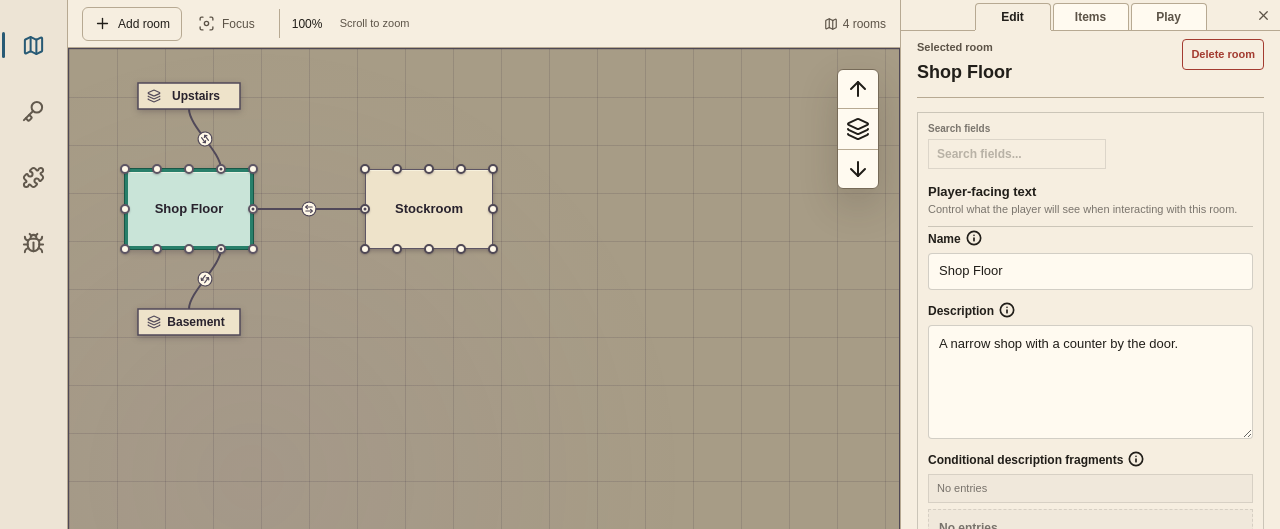
Test: EditorPage loading › opens the empty command library for the initial world
Click the button named "Logic" at point(34, 177), box [10, 154, 58, 200]
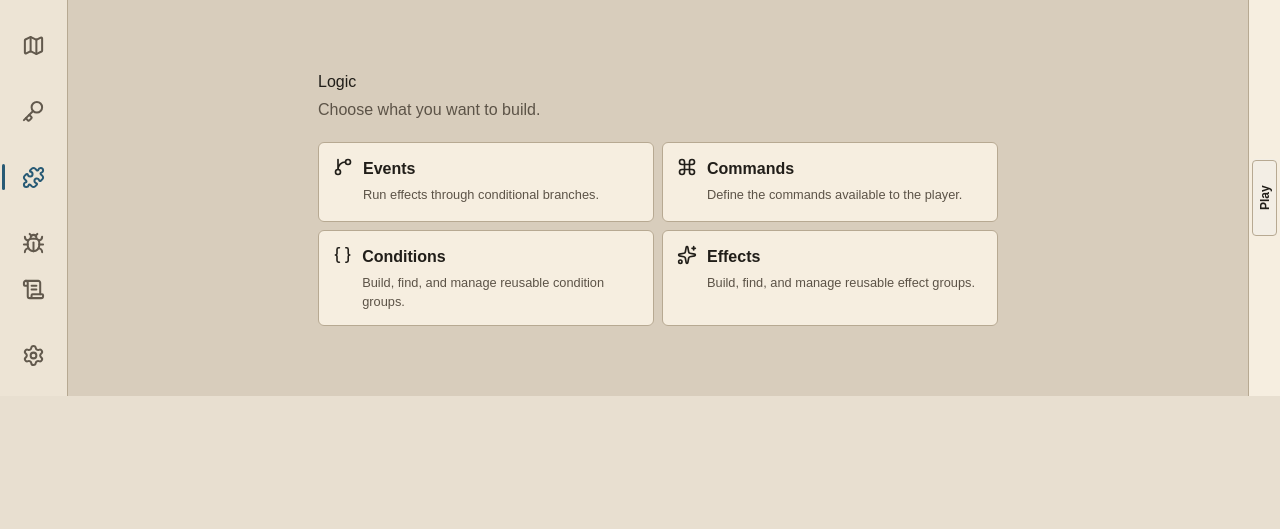
Click the button "Commands Define the commands available to the player." at point(751, 168), box [662, 142, 998, 222]
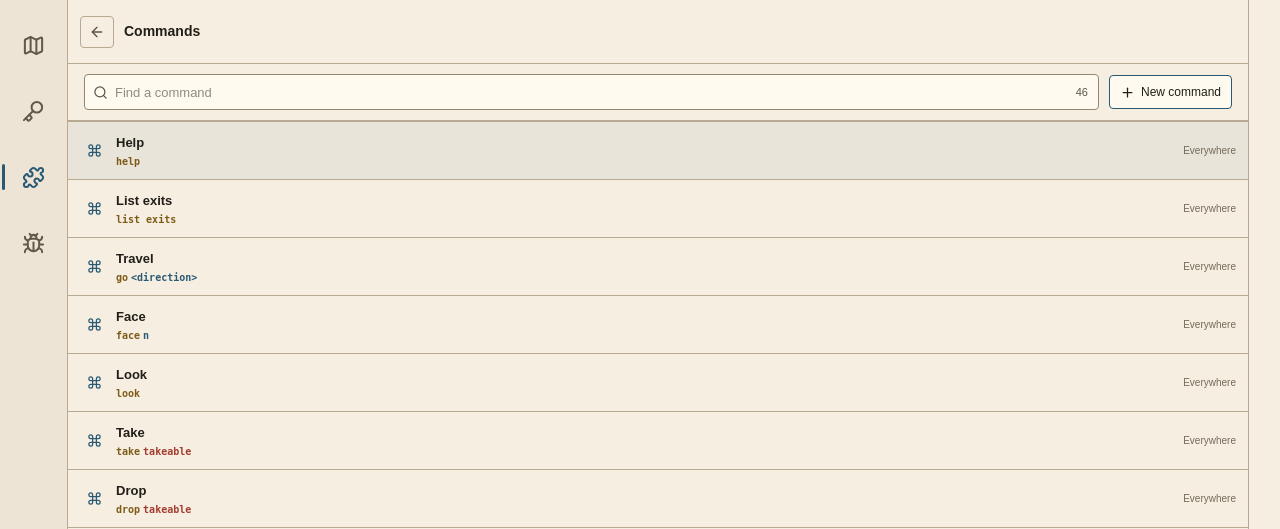
Now the search field named "Find a command" is shown, box [115, 75, 1066, 109]
Now the button "Travel go <direction> Everywhere" is shown
Now the button "New command" is shown, box [1109, 75, 1232, 109]
Click the button "Travel go <direction> Everywhere" at point(135, 258), box [68, 238, 1248, 296]
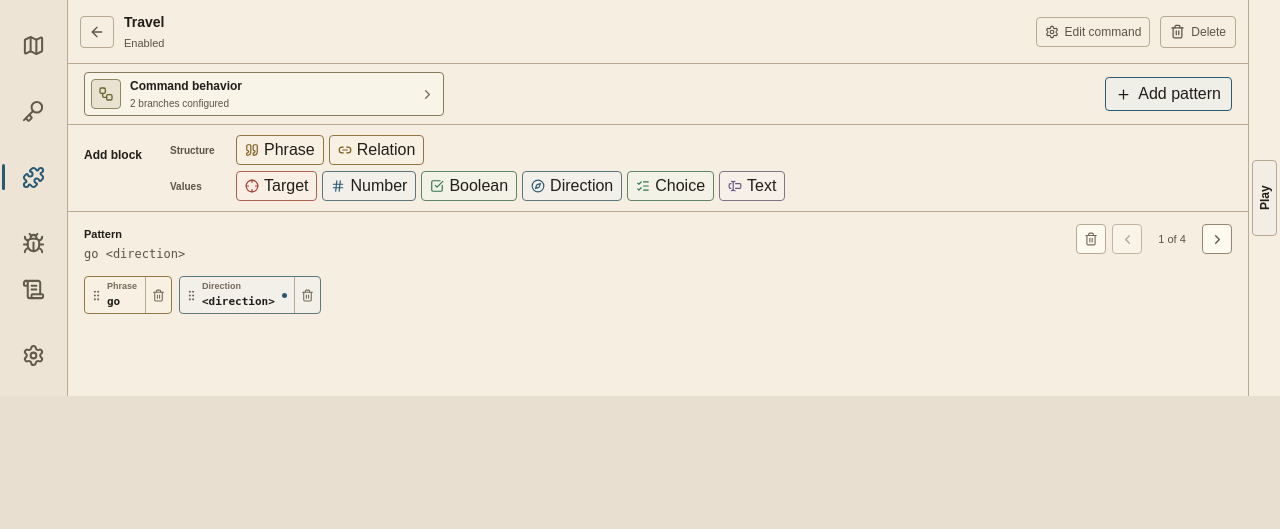
Now the button "Edit command" is shown, box [1036, 16, 1150, 46]
Click the button named "Logic" at point(34, 177), box [10, 154, 58, 200]
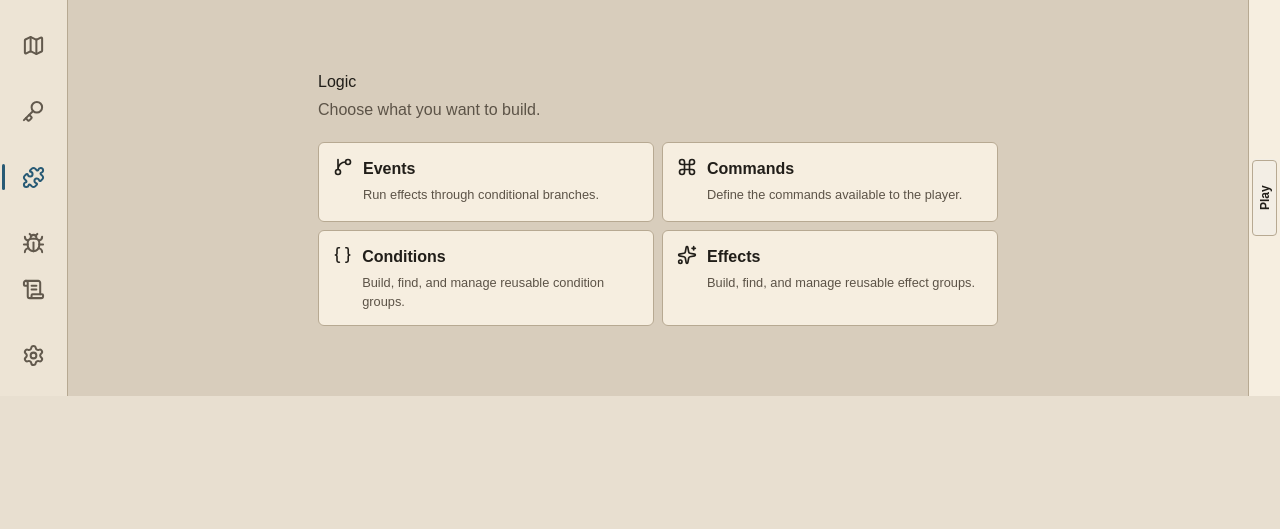
Now the heading "Logic" is shown, box [318, 73, 356, 90]
Now the text "Choose what you want to build." is shown, box [318, 101, 540, 118]
